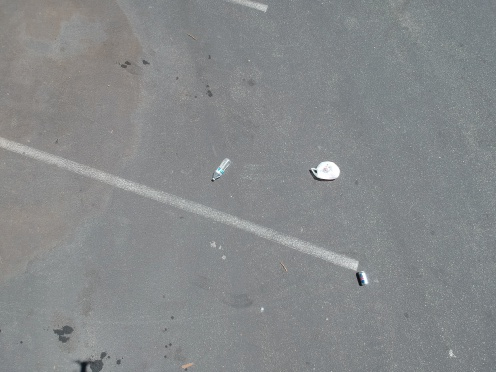bottle: (205, 153, 233, 186)
can: (353, 270, 371, 287)
plastic bag: (305, 158, 345, 185)
